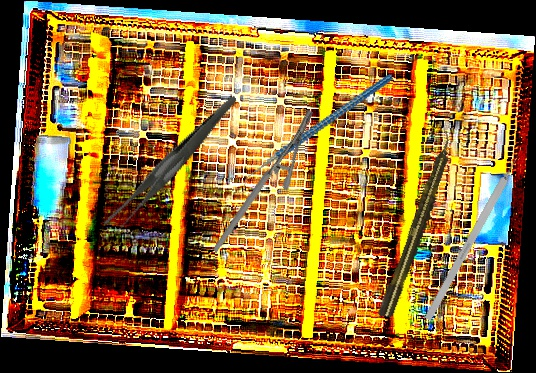Chopper: (220, 73, 412, 195)
Dressing Forceps: (79, 94, 266, 238)
Handpiece: (376, 129, 460, 321)
Hook Surgical: (423, 145, 527, 322)
Needle Holder: (178, 107, 347, 254)
